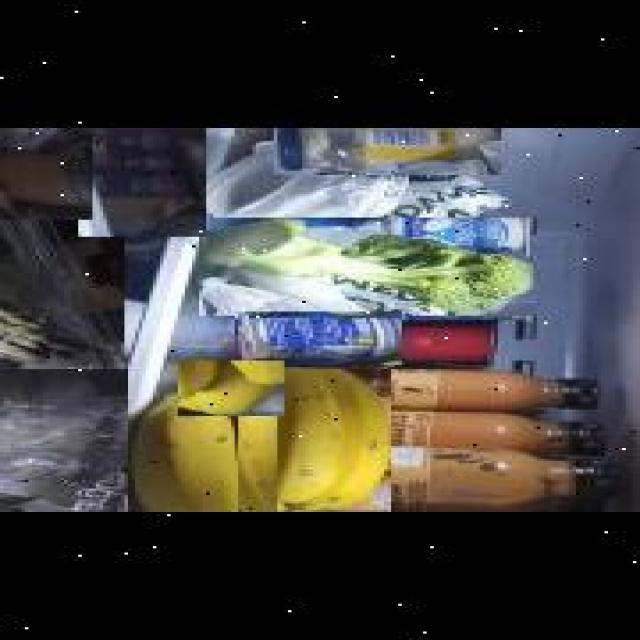Banana: (272, 369, 386, 512), (128, 390, 245, 512), (235, 375, 338, 512), (173, 361, 279, 416)
Cheese: (0, 369, 164, 512)
